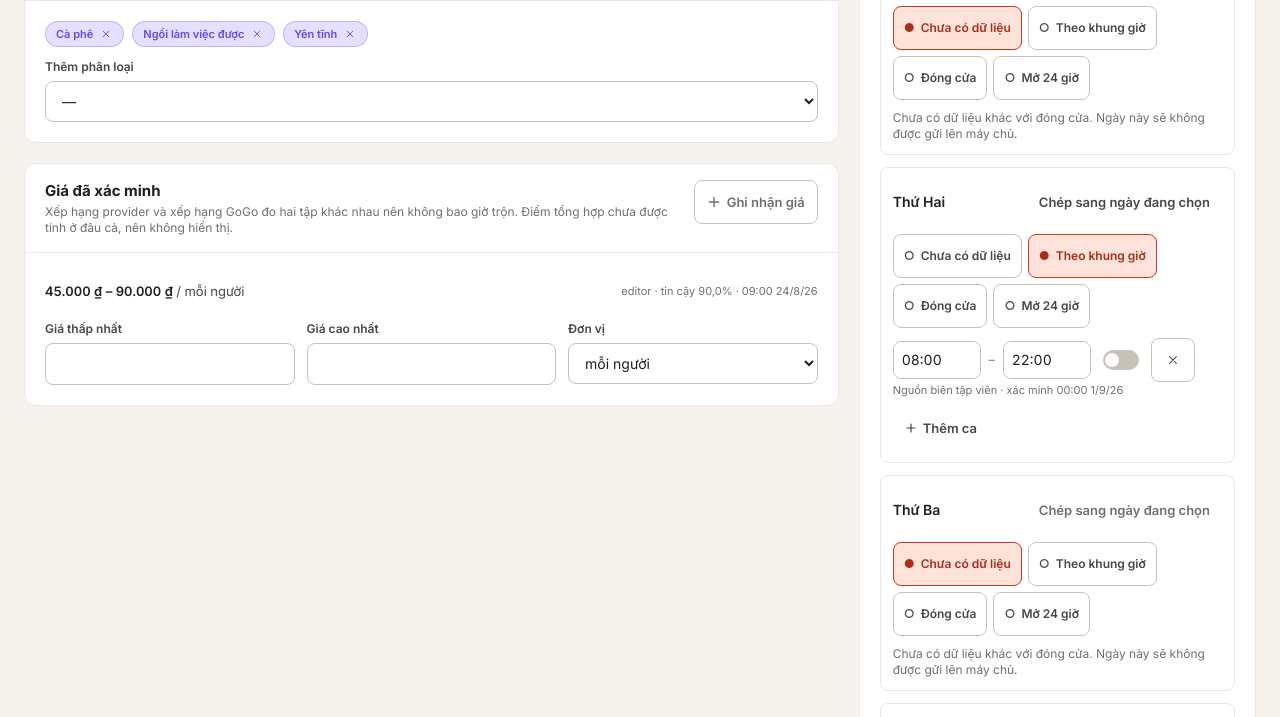
typing, and what survives a rejection › keeps a half-typed time instead of discarding it
The width and height of the screenshot is (1280, 717).
(page scrolled)
Type "9" into the field named "Giờ mở ngày Thứ Hai" at x=937, y=360, box [893,341,981,379]
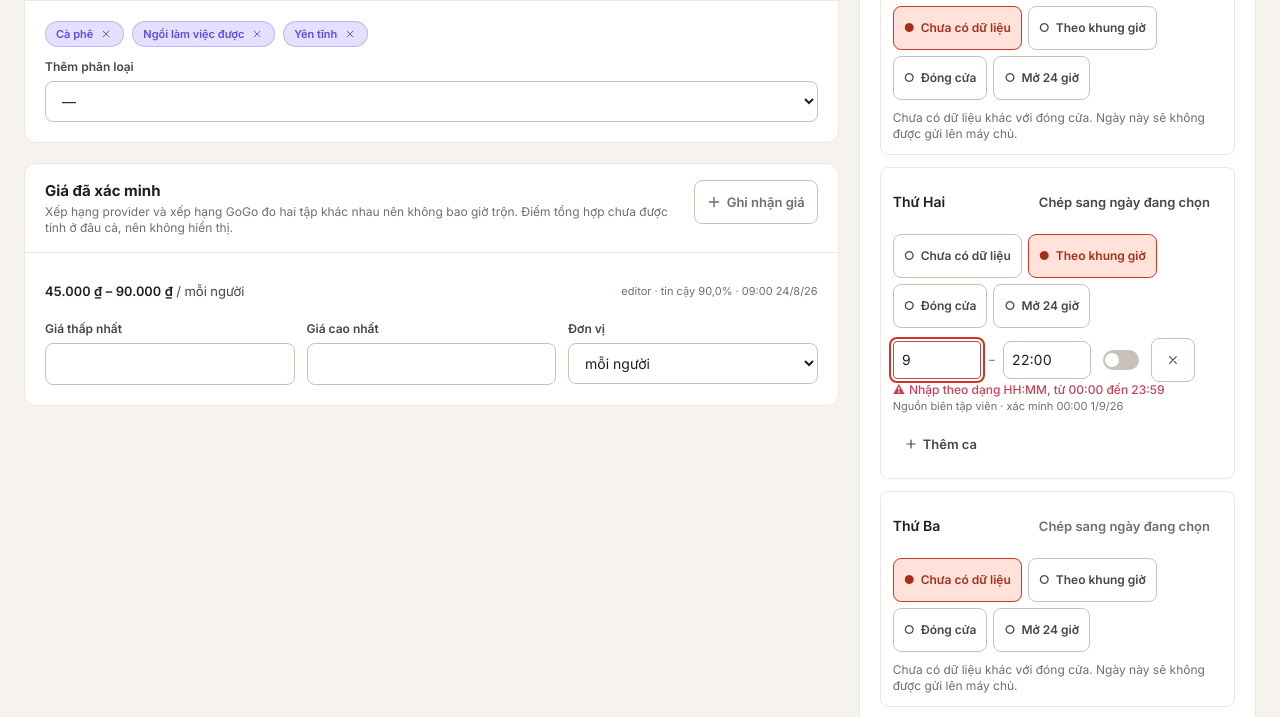
Type ":30" into the field named "Giờ mở ngày Thứ Hai" at x=937, y=360, box [893,341,981,379]
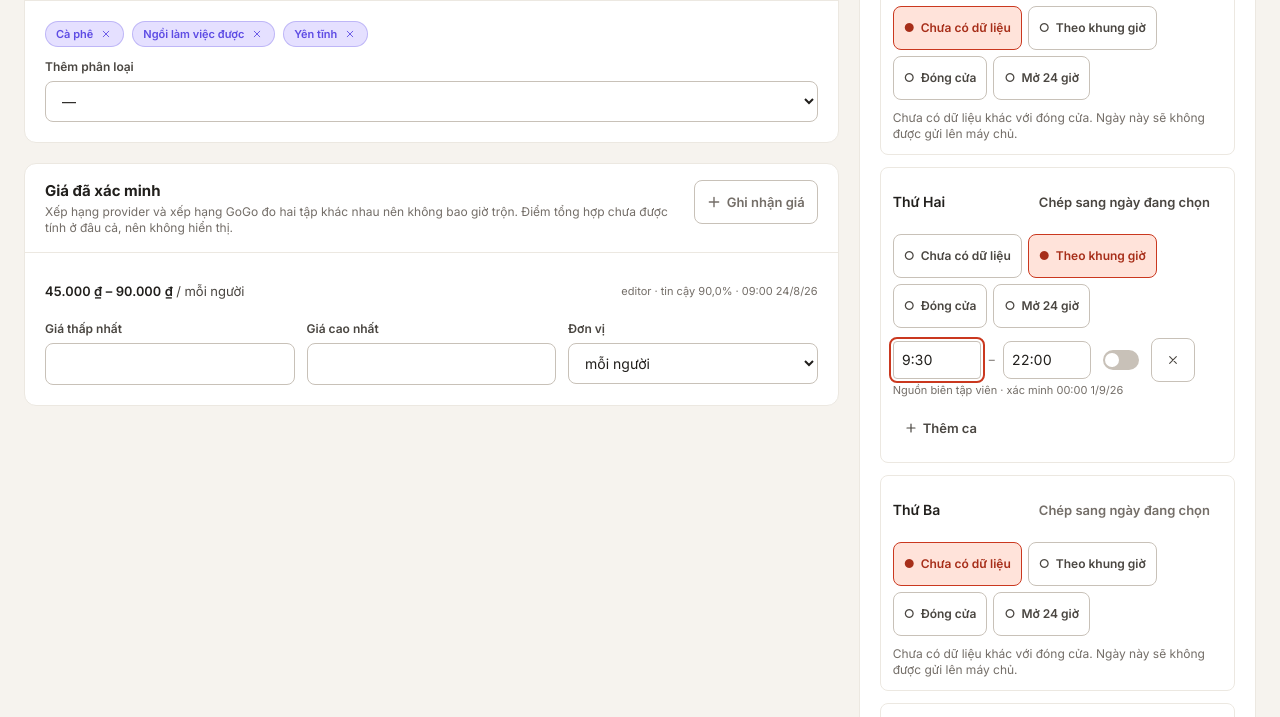
Now the field named "Giờ mở ngày Thứ Hai" holds "9:30", box [893,341,981,379]
